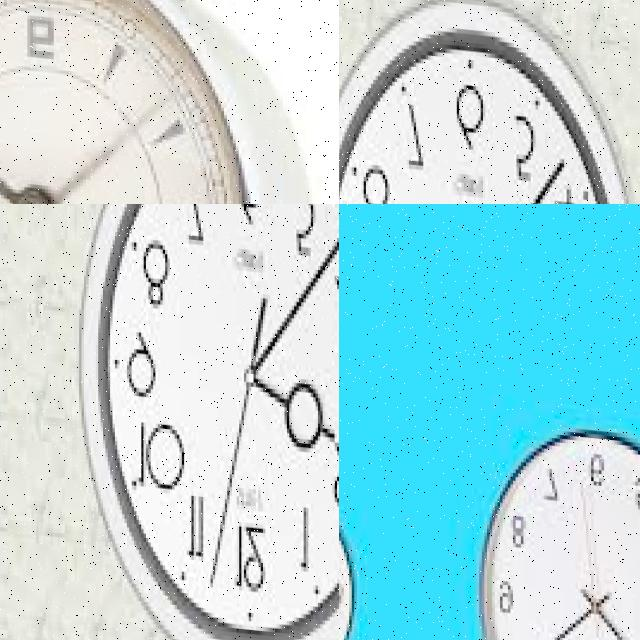Clocks-images: (82, 205, 340, 640), (340, 1, 640, 205), (1, 1, 258, 205), (479, 412, 640, 640)
